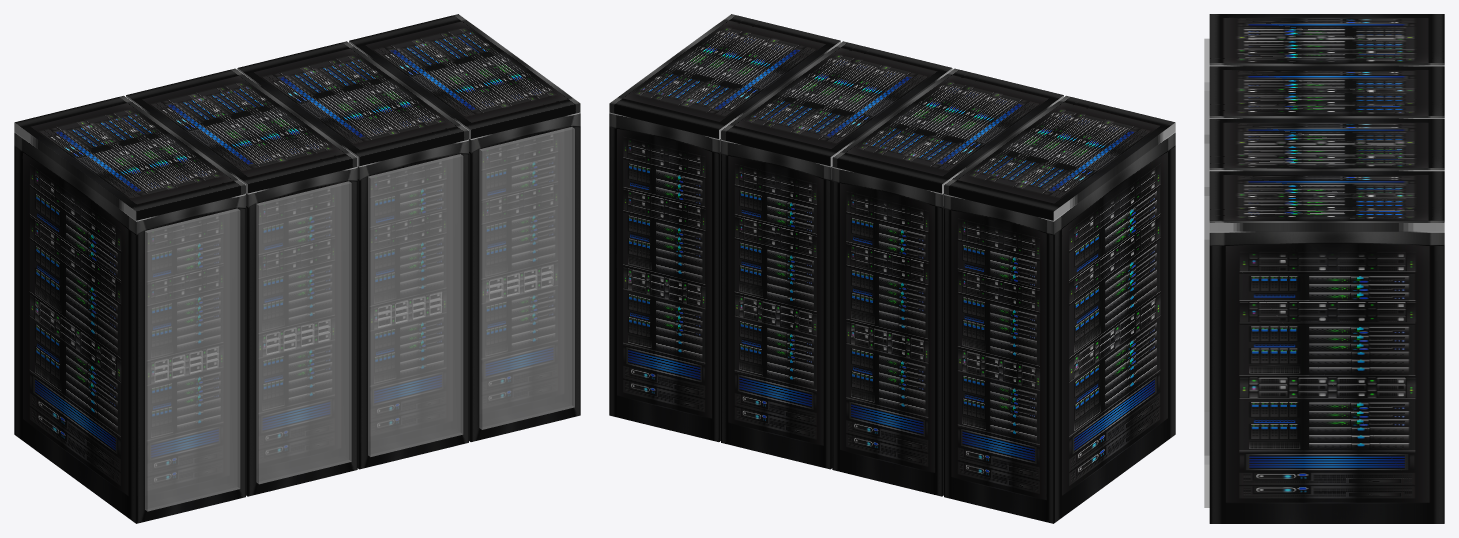
The model's file is SERVERV2.fbx.
The picture shows the model from 3 angles, left to right: view 1: azimuth 30°, elevation 25°; view 2: azimuth 150°, elevation 25°; view 3: azimuth 270°, elevation 25°; orthographic projection. The views are drawn at different scales.
Parts seen in each view (by area): view 1: Glass1 (×4), Server3, Server, Server2, Server1; view 2: Server3, Server, Server2, Server1; view 3: Server, Server2, Server1, Server3, Glass1 (×4).
Part boxes in pixels (<box>): Glass1 (×4): <box>145,127,574,511</box>; Server3: <box>14,95,245,523</box>; Server: <box>349,14,580,442</box>; Server2: <box>126,68,357,496</box>; Server1: <box>237,41,468,469</box>; Server3: <box>944,95,1175,523</box>; Server: <box>609,14,840,442</box>; Server2: <box>832,68,1063,496</box>; Server1: <box>721,41,952,469</box>; Server: <box>1209,171,1444,523</box>; Server2: <box>1209,66,1444,118</box>; Server1: <box>1209,119,1444,171</box>; Server3: <box>1209,14,1444,66</box>; Glass1 (×4): <box>1204,38,1209,507</box>.
Bounding box in the file's own units: 421 × 282 × 204.
